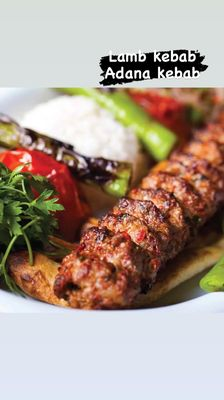sandwich: (47, 112, 223, 310)
